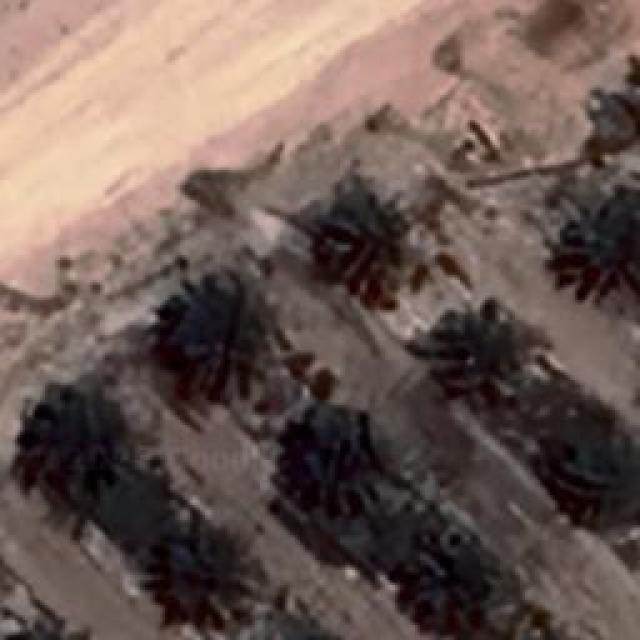PalmTree: (165, 276, 278, 394), (23, 392, 128, 516), (314, 191, 424, 309), (281, 406, 389, 514), (428, 298, 532, 408), (547, 427, 640, 532), (397, 537, 495, 635), (162, 522, 250, 628), (562, 207, 640, 305)
